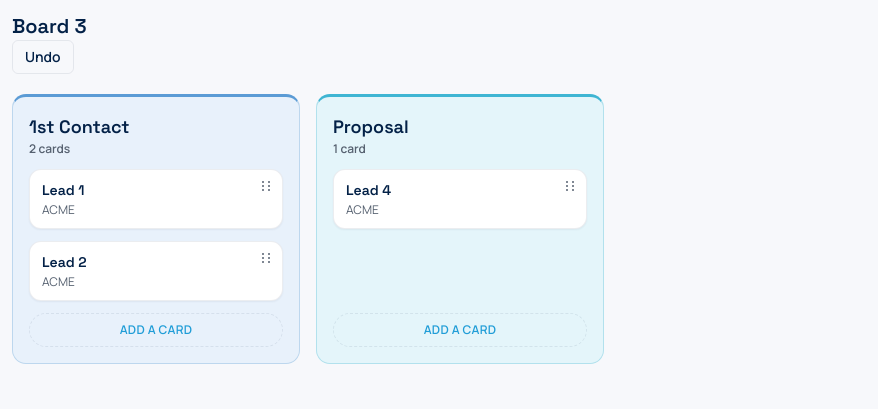
Test: central card versions (optimistic concurrency in the UI) › undo › explains a version conflict, re-reads the board and never retries
Click the button with test id "undo-button": (43, 57) [12,40,74,74]
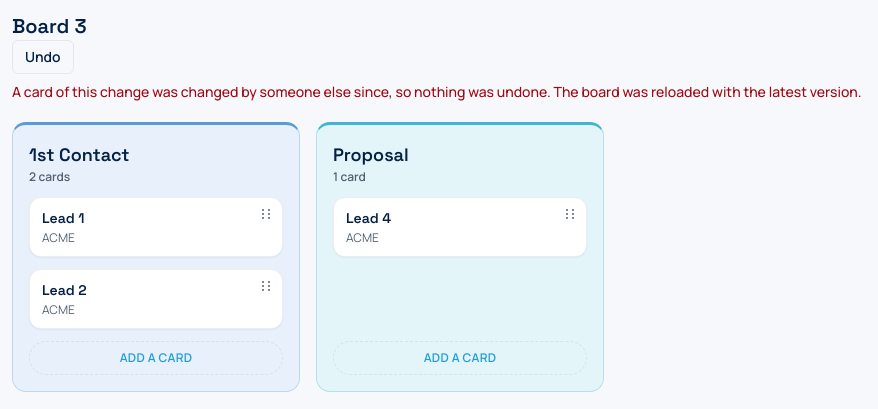
Expected: the message with test id "undo-notice" shows "nothing was undone", [12,82,862,101]
